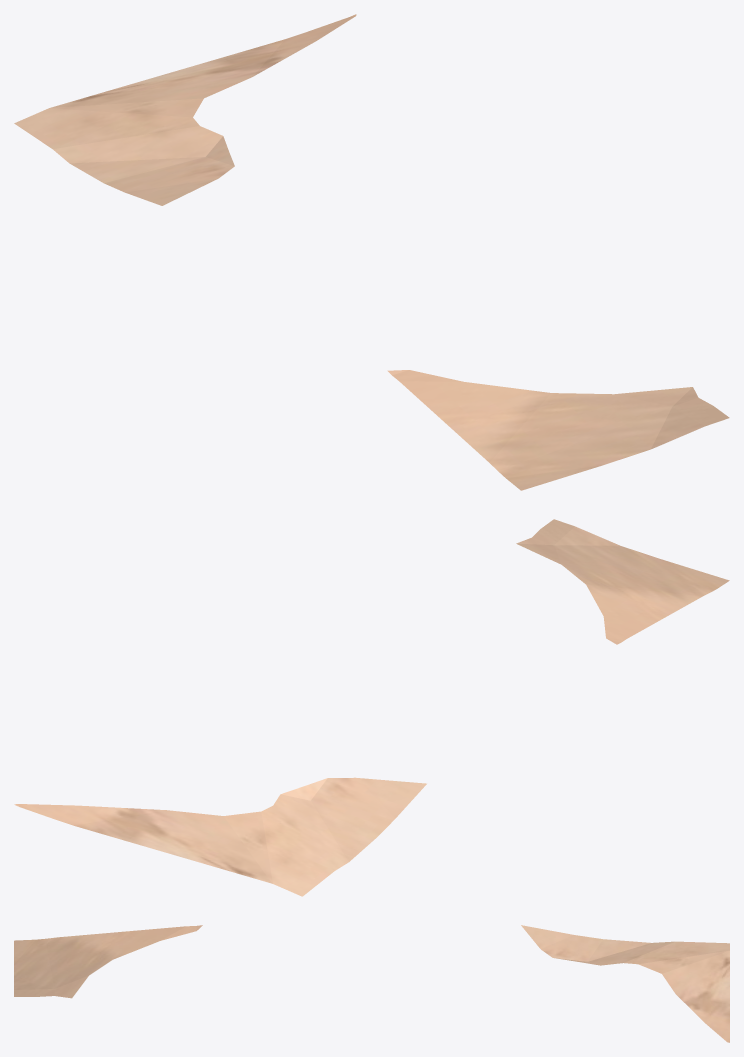
3 views of the same model, one above another, from view 1: azimuth 30°, elevation 25°; view 2: azimuth 150°, elevation 25°; view 3: azimuth 270°, elevation 25° (orthographic). The views are drawn at different scales.
Bounding box in the file's own units: 0.4068 × 0.0293 × 1.04.
1 material, 1 textured.
